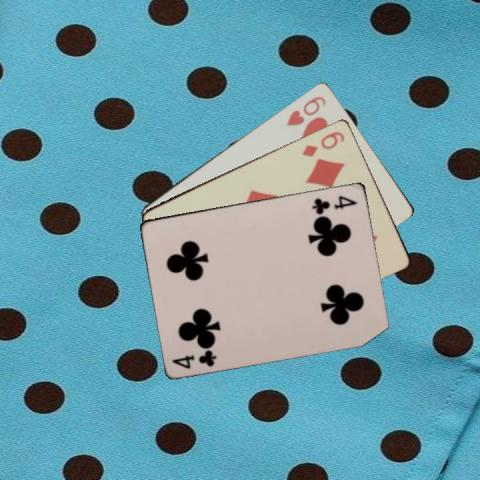4c: (169, 347, 218, 370), (308, 192, 359, 214)
6d: (299, 128, 346, 159)
6h: (284, 93, 327, 127)
